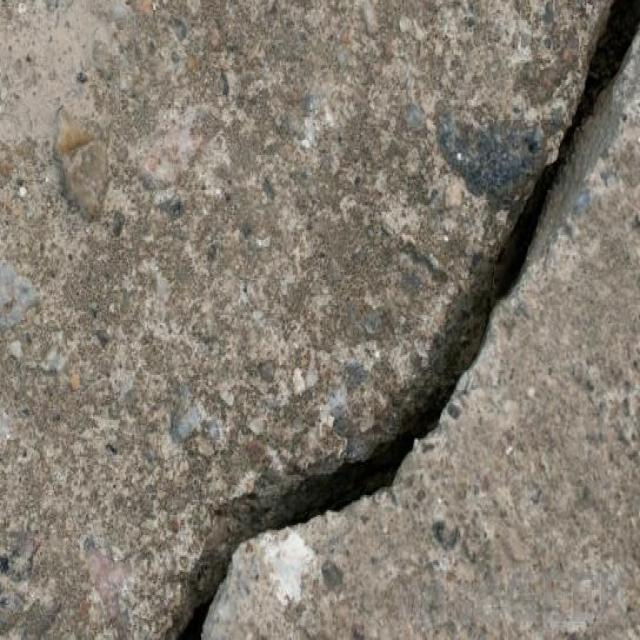Diagonal: (338, 288, 528, 518), (503, 0, 640, 282), (150, 489, 324, 640)
